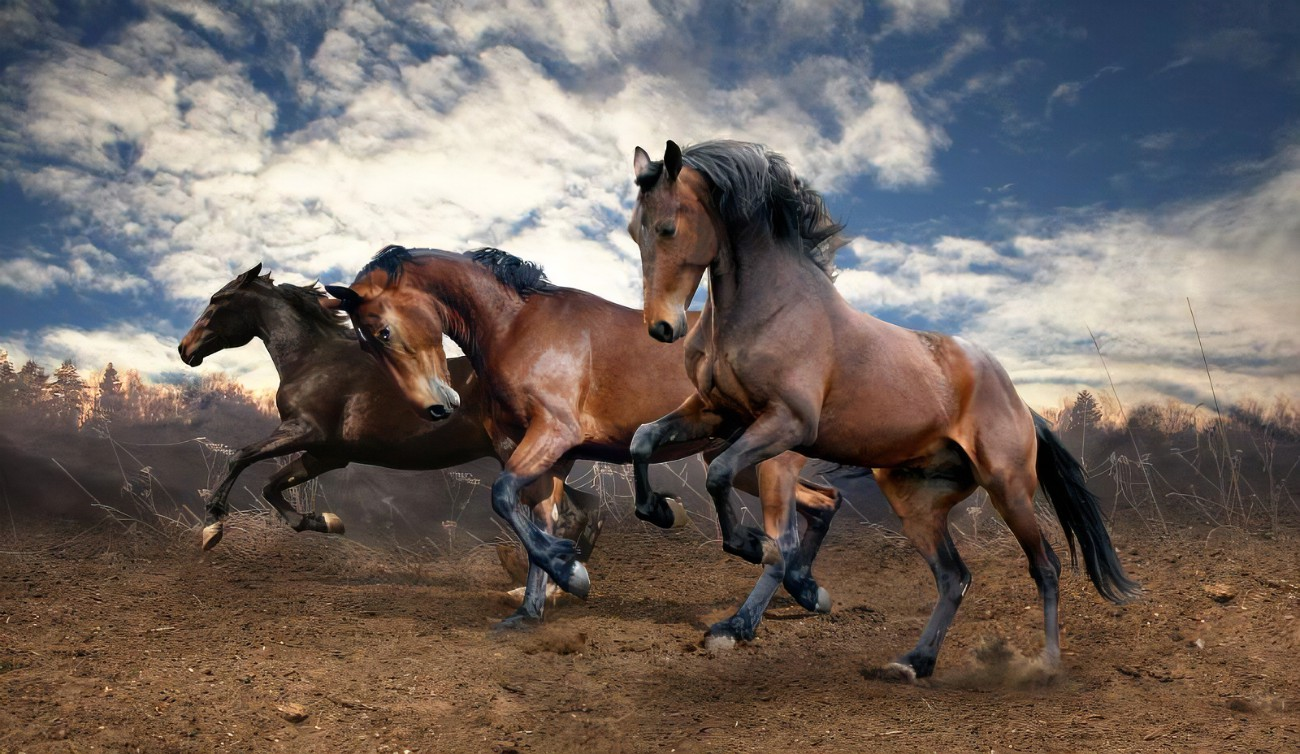horse: (625, 137, 1144, 689), (334, 243, 841, 638), (178, 259, 594, 615)
